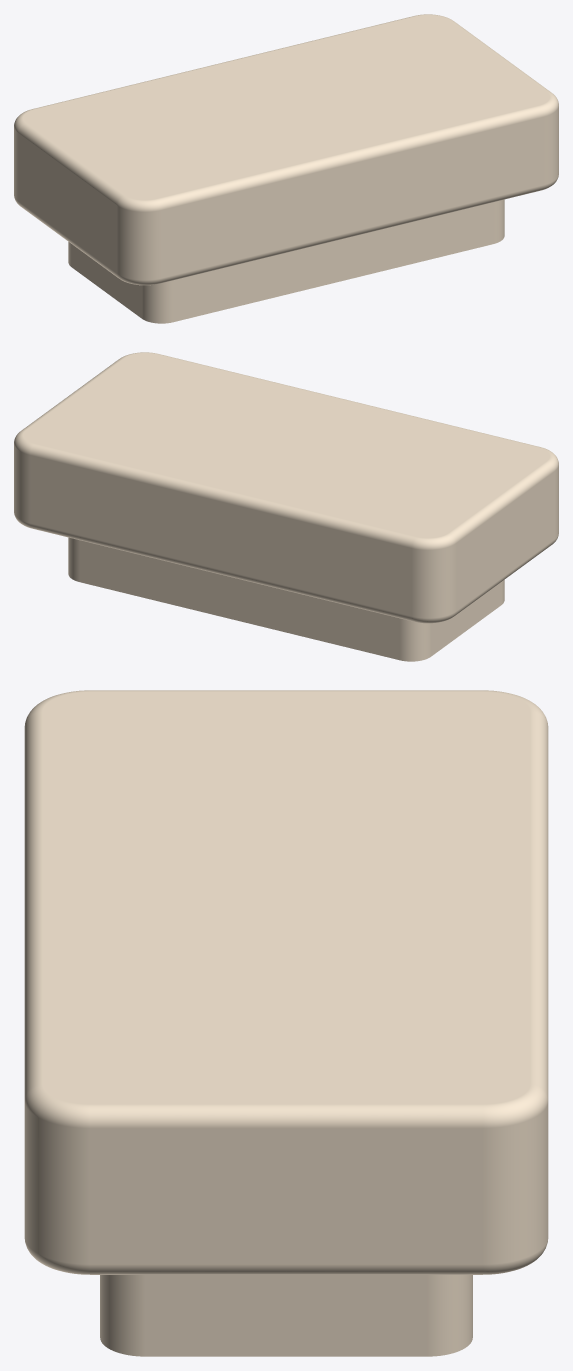
File: terra_coffee_table_refined.glb
3 renders of one model, top to bottom at view 1: azimuth 30°, elevation 25°; view 2: azimuth 150°, elevation 25°; view 3: azimuth 270°, elevation 25°, orthographic. The views are drawn at different scales.
Visible parts, largest first — view 1: geometry_0; view 2: geometry_0; view 3: geometry_0.
Boxes of the visible parts, x1,y1,x2,y2 form: geometry_0: (14,14,558,323); geometry_0: (14,352,558,661); geometry_0: (24,690,548,1356).
Size of the model in its own units: 1 by 0.31 by 0.52.
